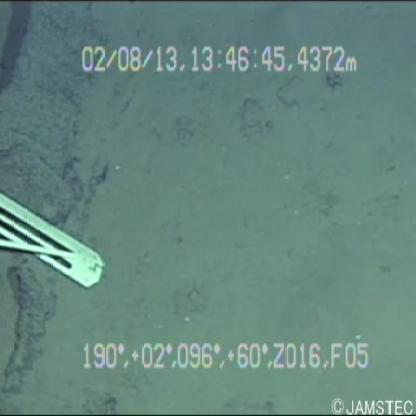Rác: (1, 171, 112, 309)
